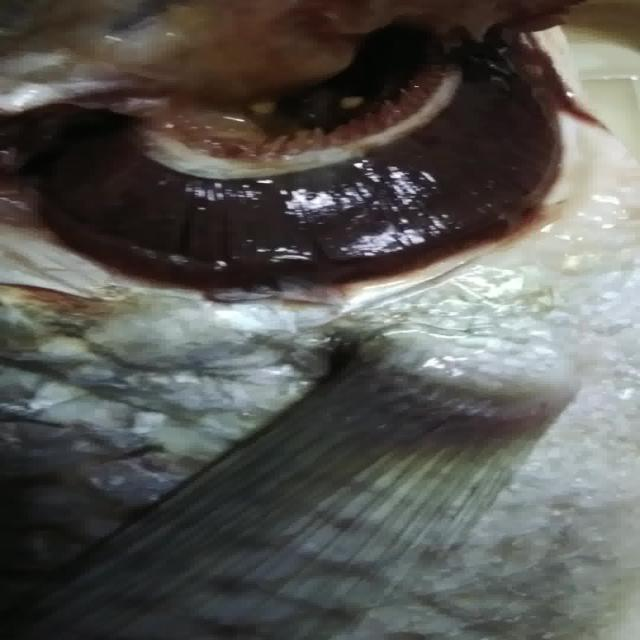Non-Fresh: (0, 4, 628, 339)
